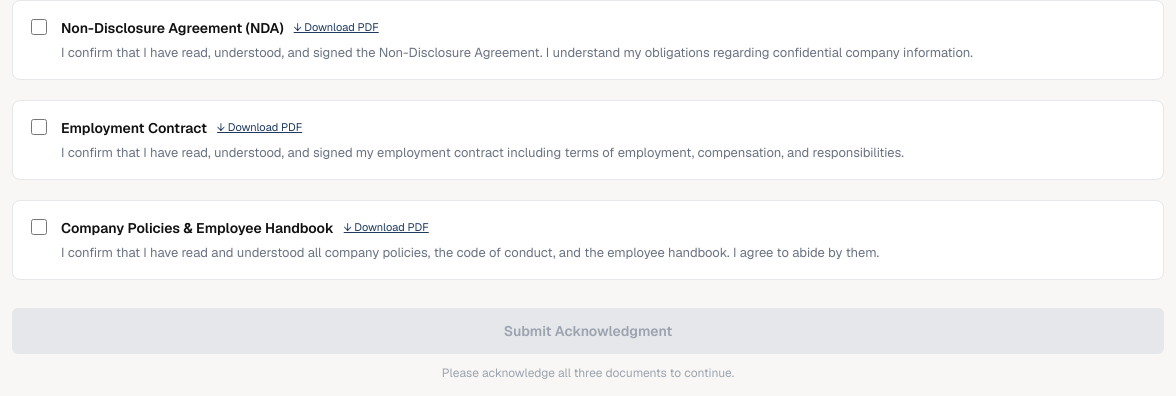
Scenario: AcknowledgeForm › shows success ✅ state after successful submission
This screenshot has width=1176, height=396.
Click the 1st checkbox.
click(39, 27)  # box [31, 19, 47, 35]
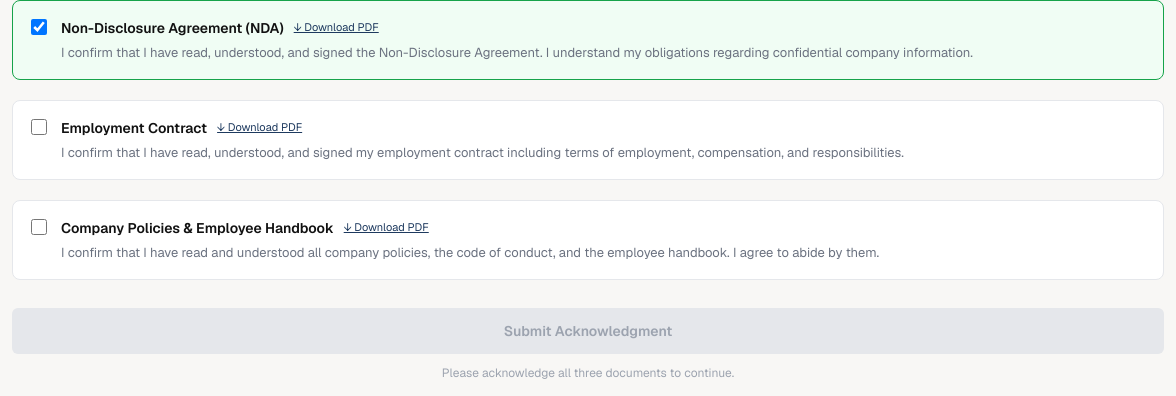
Click the 2nd checkbox.
click(39, 127)  # box [31, 119, 47, 135]
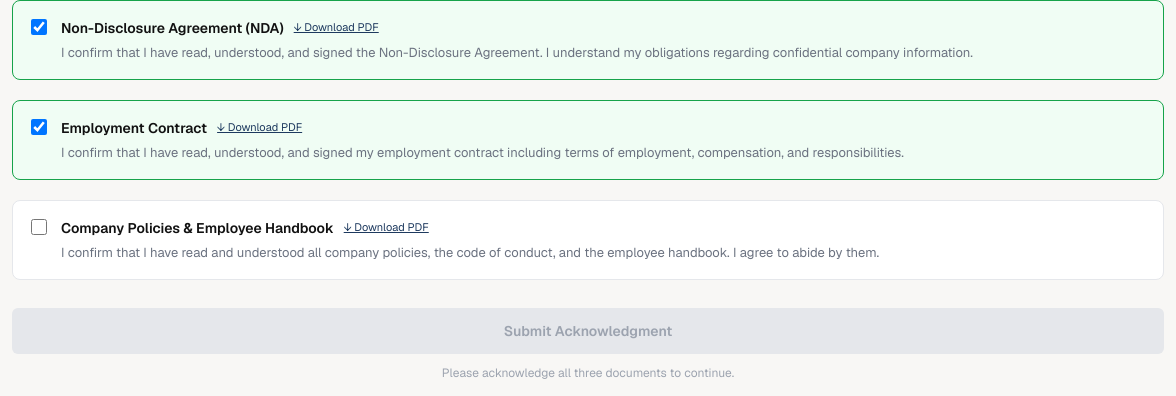
Click the 3rd checkbox.
click(39, 227)  # box [31, 219, 47, 235]
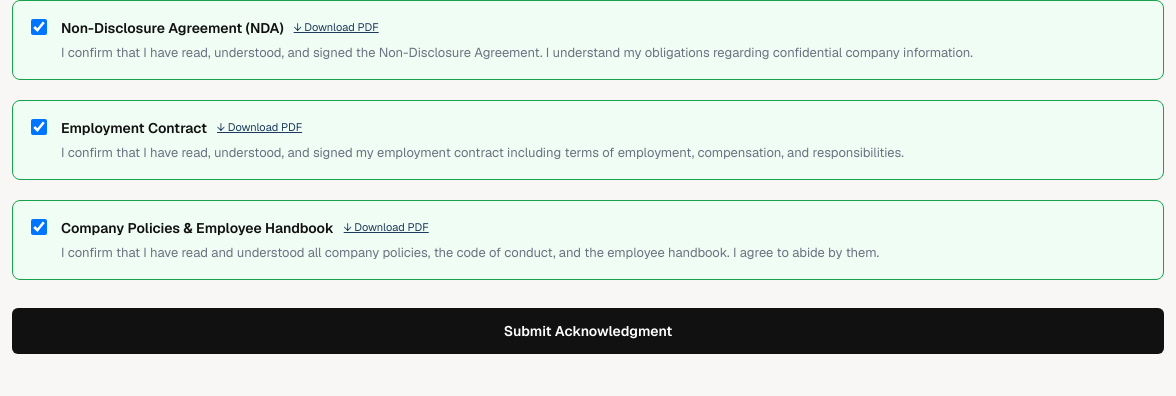
Click the button "Submit Acknowledgment".
click(588, 331)  # box [12, 308, 1164, 354]
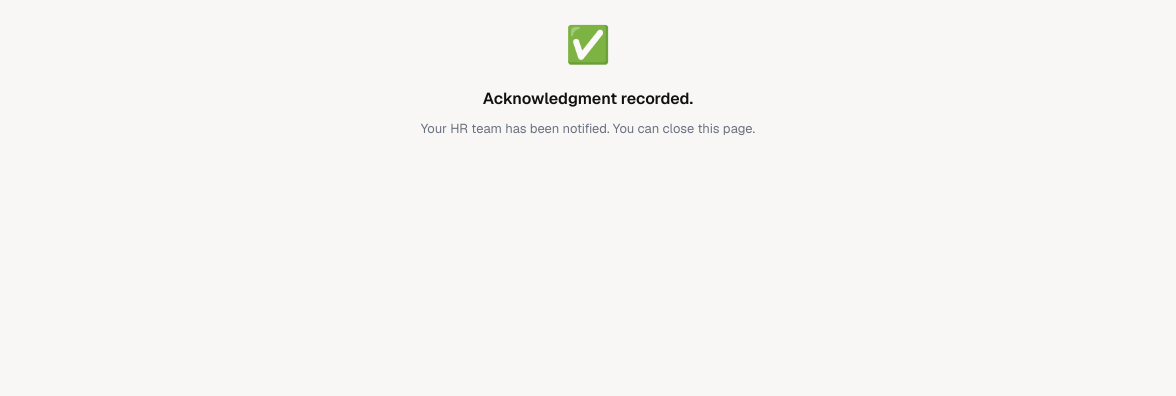
Check: the text "Acknowledgment recorded." is shown, box [483, 88, 693, 109]
